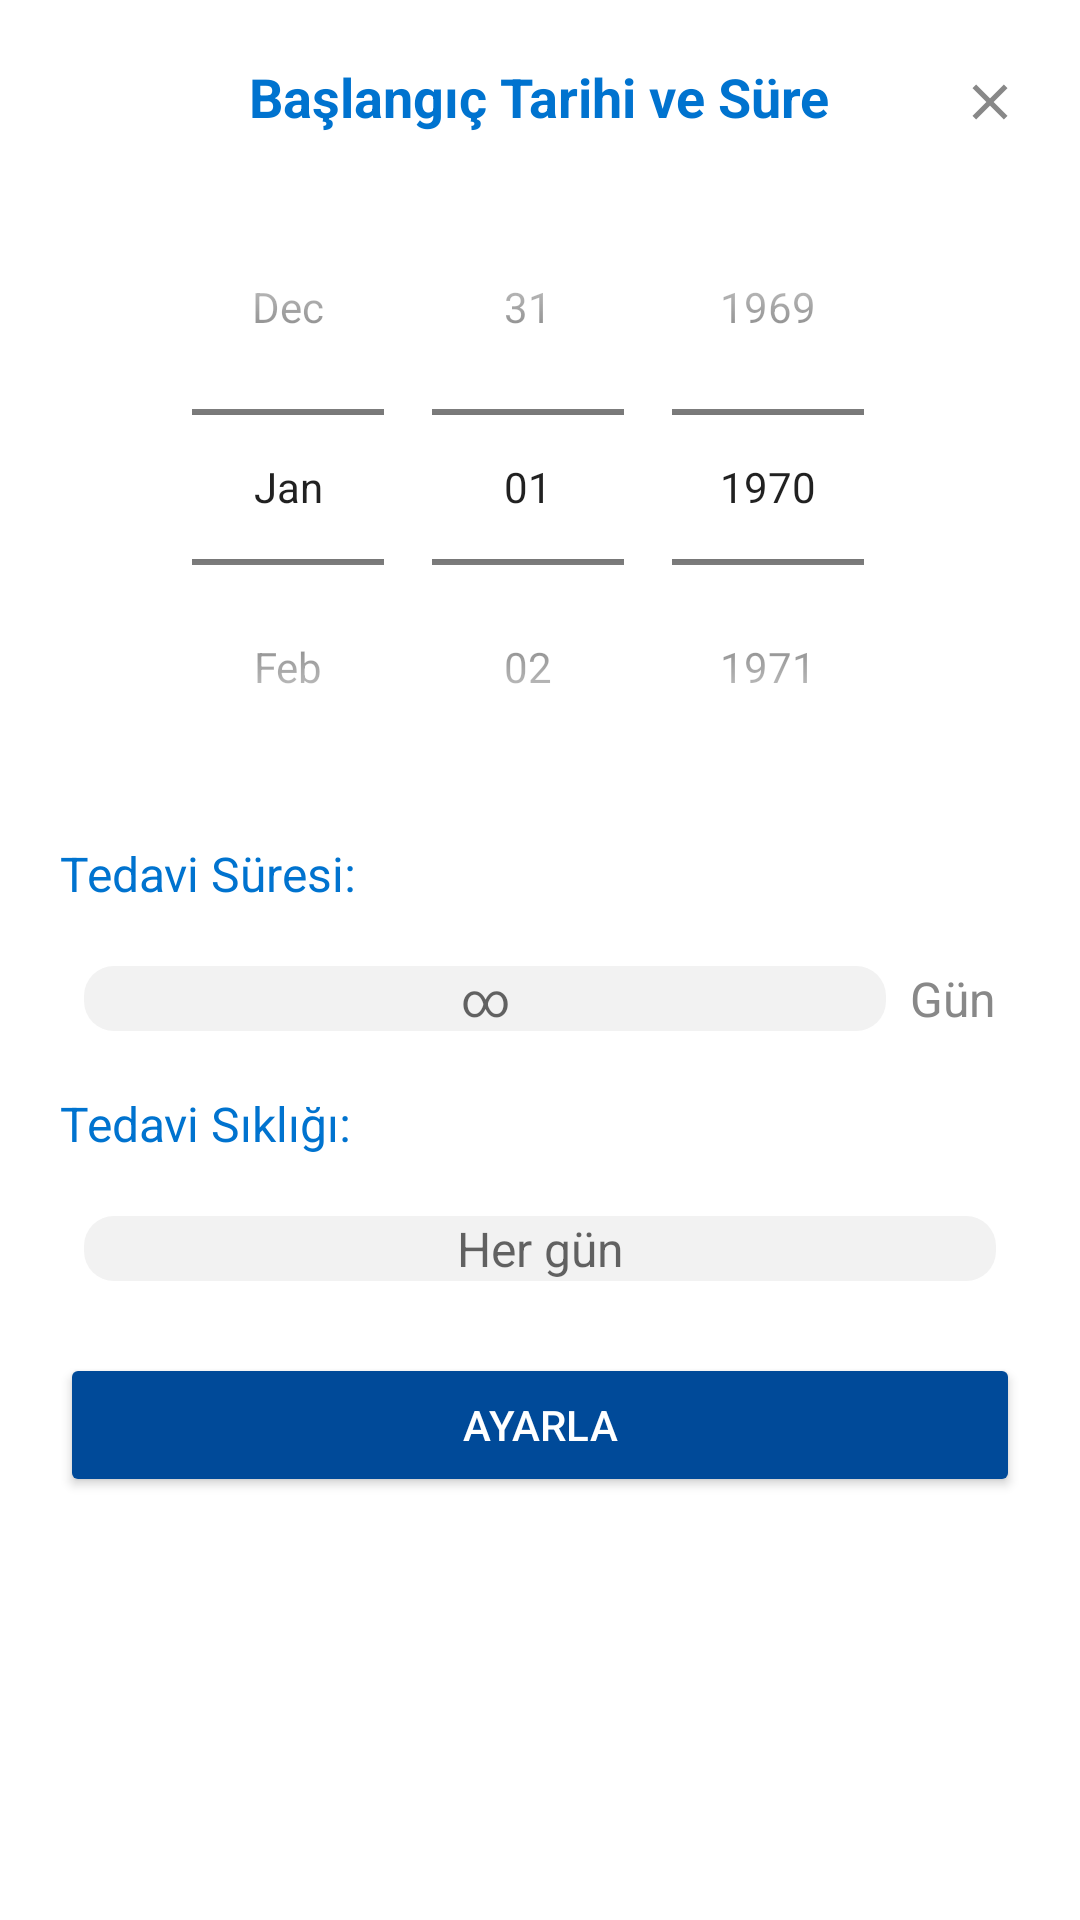

Point at icon controls on the screen. Image size 1080 × 1920, points as (x,y).
close: (990,102)
